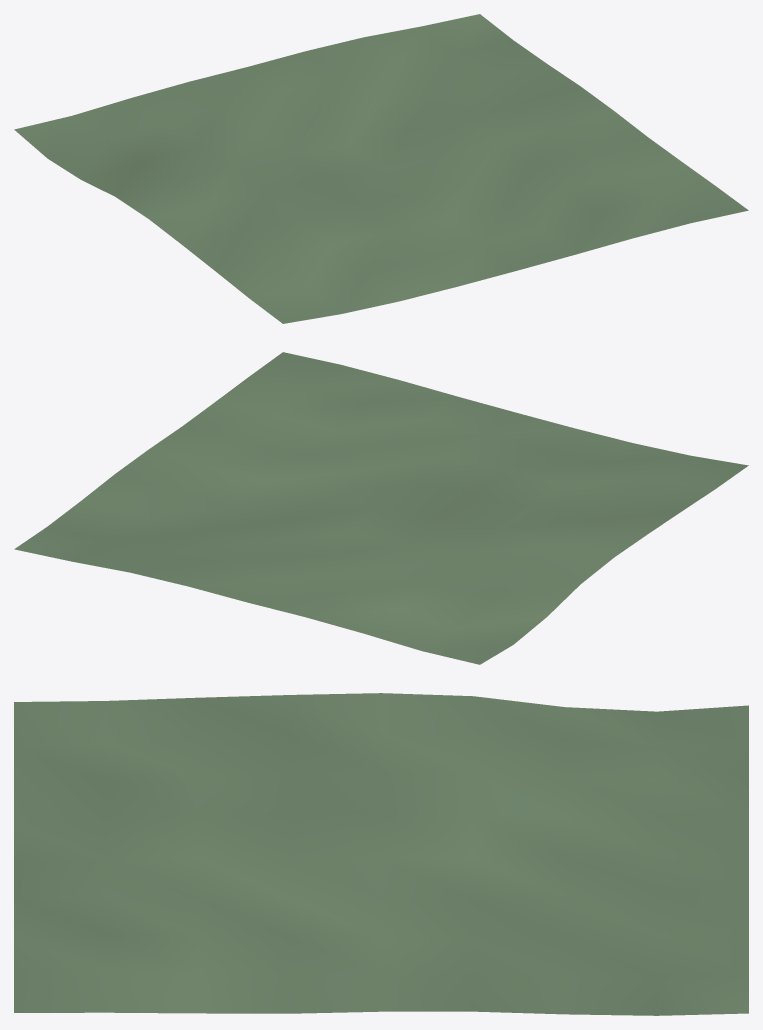
The picture shows the model from 3 angles, top to bottom: view 1: azimuth 30°, elevation 25°; view 2: azimuth 150°, elevation 25°; view 3: azimuth 270°, elevation 25°; orthographic projection. The views are drawn at different scales.
Parts seen in each view (by area): view 1: Lo; view 2: Lo; view 3: Lo.
Boxes of the visible parts, <box> form: Lo: <box>14,14,748,323</box>; Lo: <box>14,352,748,664</box>; Lo: <box>14,693,748,1015</box>.
Bounding box in the file's own units: 256 × 7.12 × 256.
